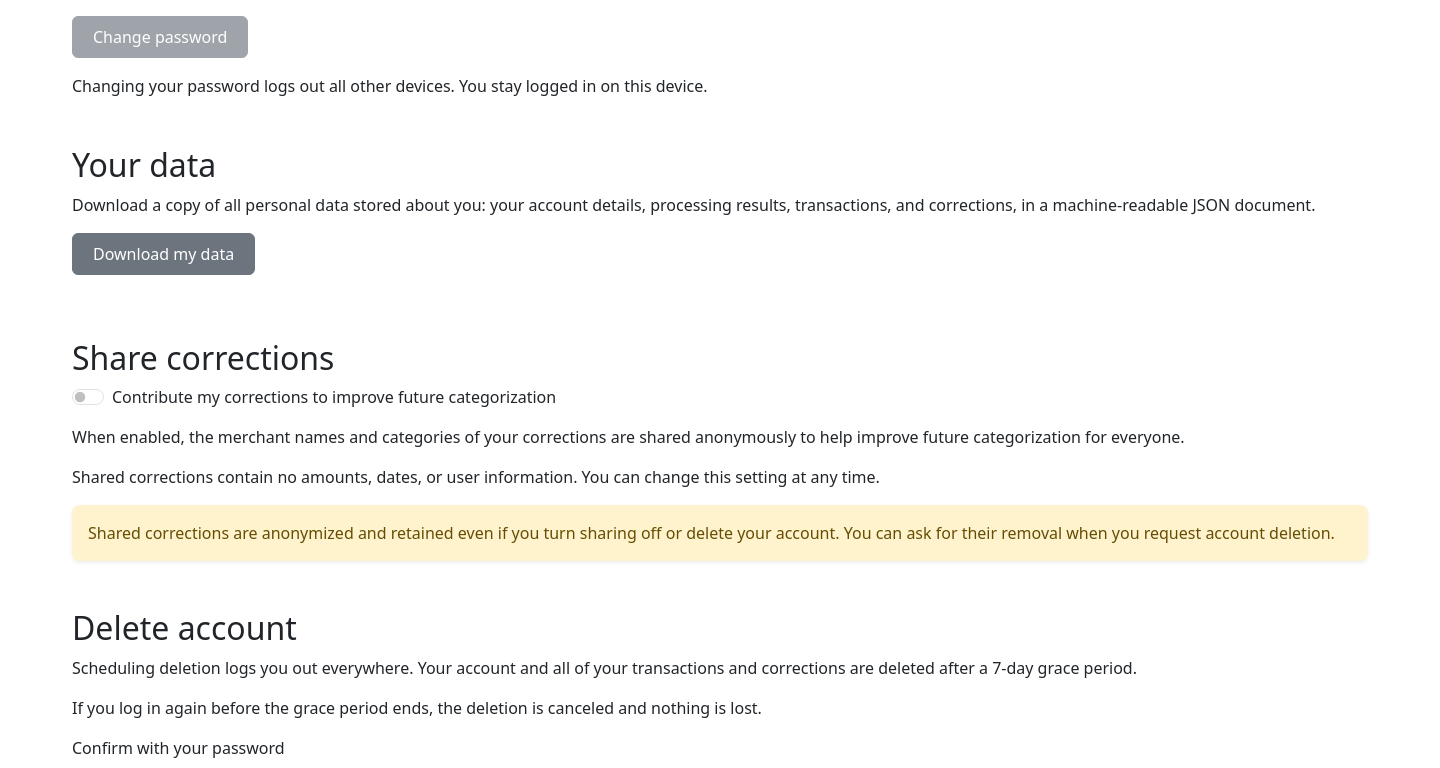
Scenario: Settings.vue › shows the enabled confirmation after a successful opt-in
(page scrolled)
Click the switch with id "optInSharingSwitch": (88, 397) 72,389 -> 104,405
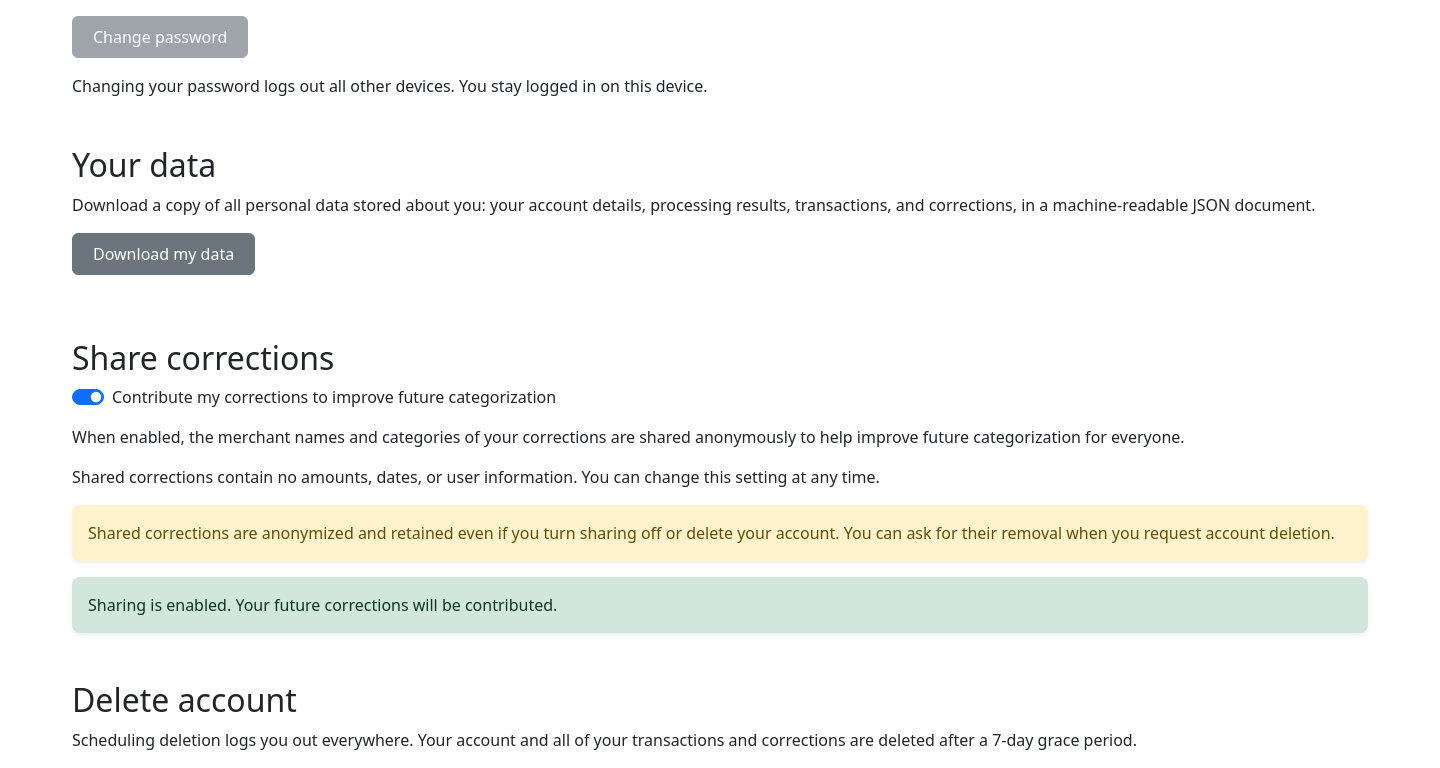
Check: the text "Sharing is enabled. Your future corrections will be contributed." is shown, box 72,577 -> 1368,633
